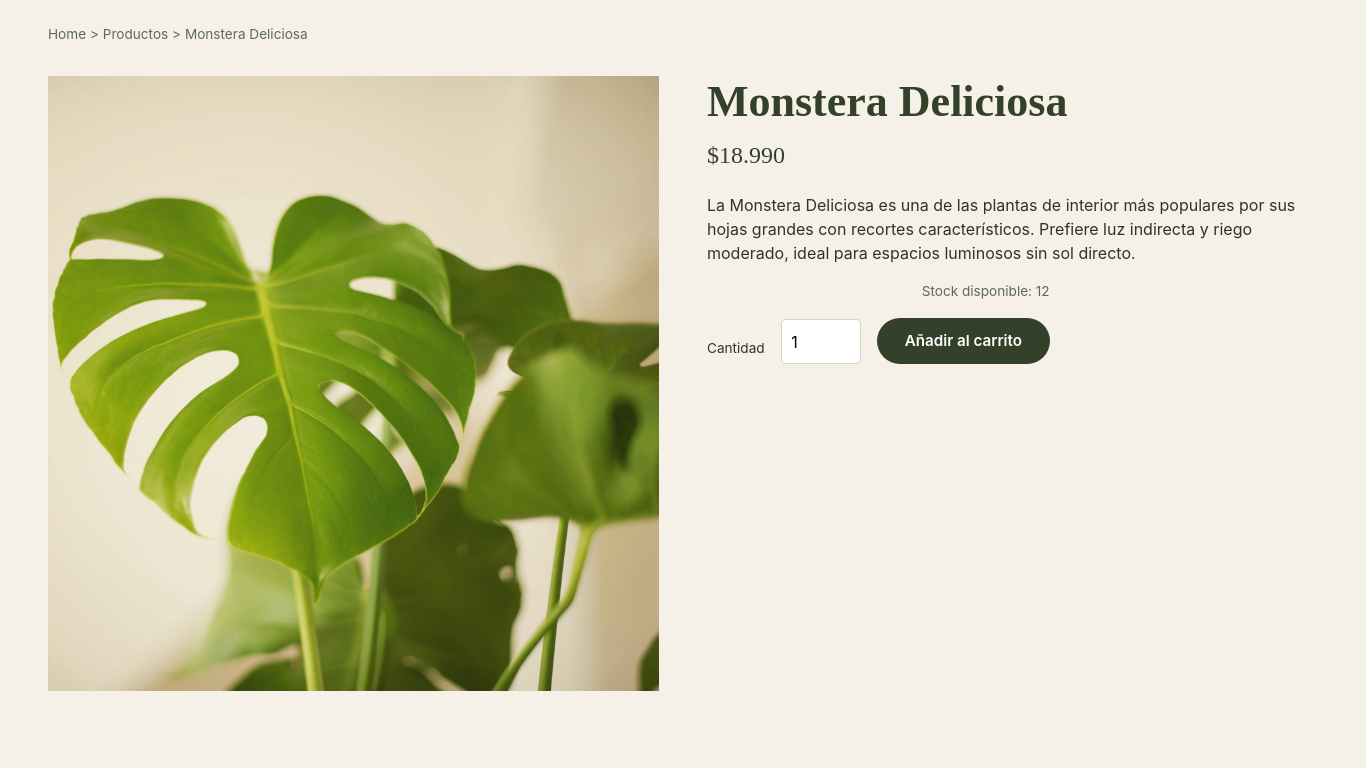
DetalleProducto › agrega la cantidad elegida al carrito y muestra confirmación (estado y eventos)
Replace the text in the number field labelled "Cantidad" with "3" at (821, 342), box [781, 319, 861, 364]
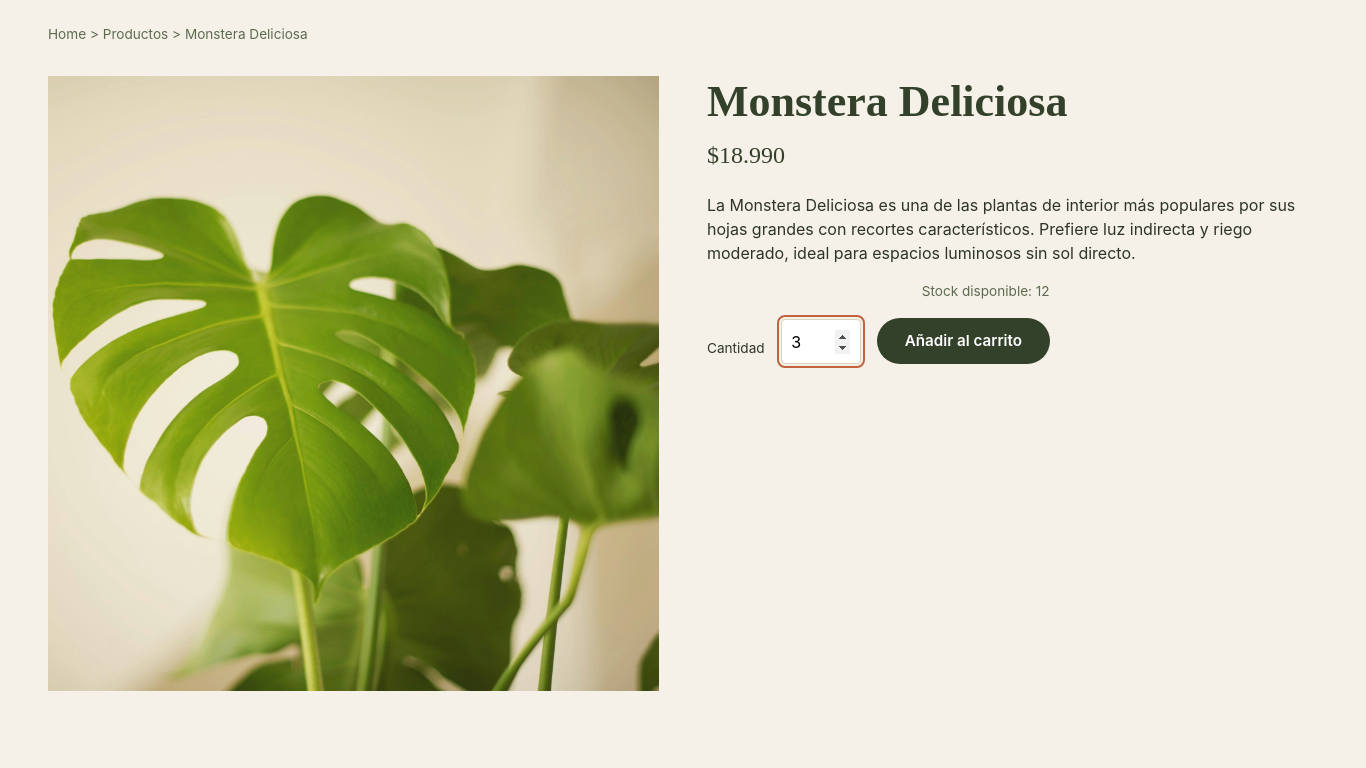
Click the button "Añadir al carrito" at (963, 341), box [877, 318, 1050, 364]
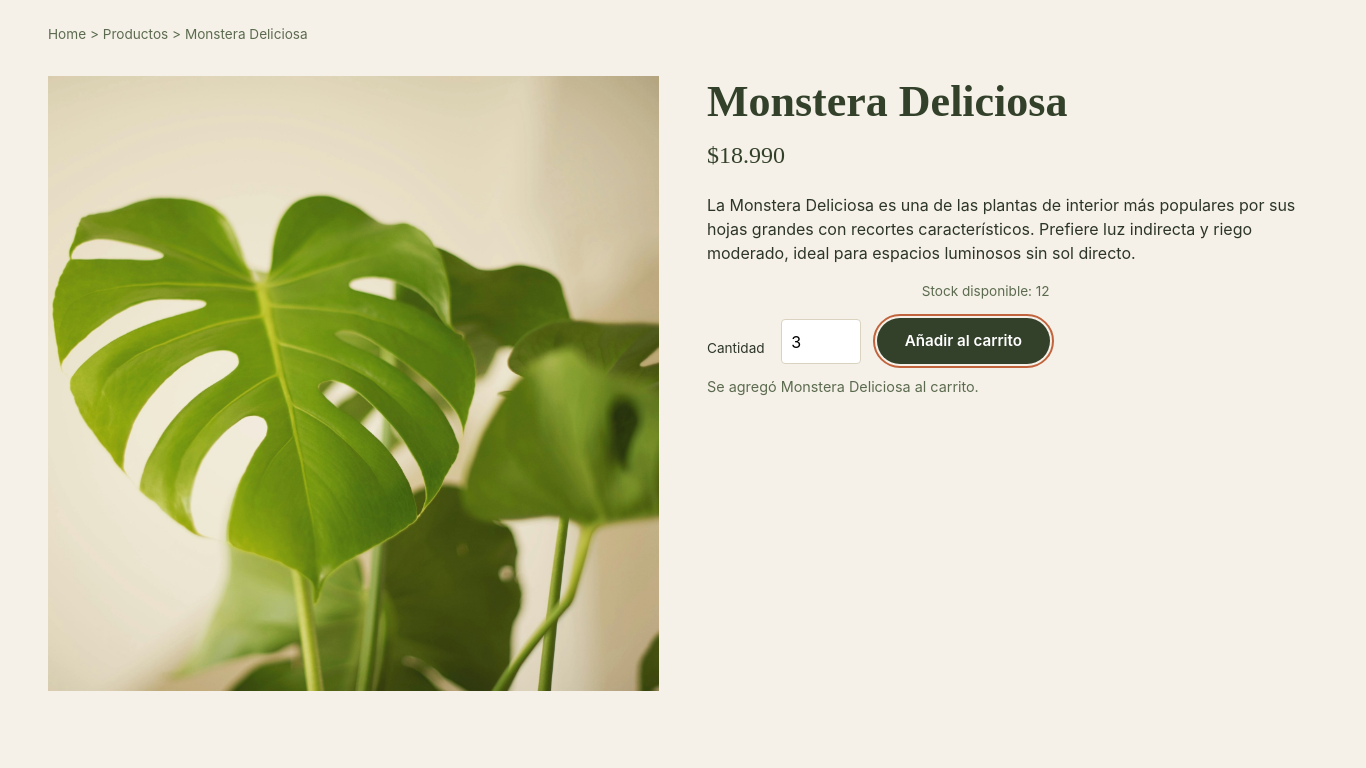
expect the message reads "Se agregó Monstera Deliciosa al carrito.": met, box [707, 378, 979, 395]
